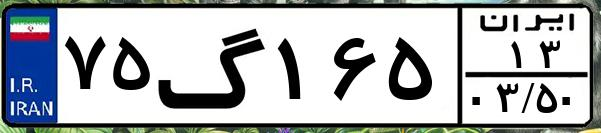0: (560, 70, 590, 125), (470, 70, 495, 125)
1: (270, 28, 330, 110), (508, 27, 537, 80)
3: (537, 27, 568, 80), (495, 70, 520, 125)
5: (385, 28, 445, 110), (110, 28, 156, 98), (535, 70, 560, 125)
6: (330, 28, 385, 110)
7: (57, 26, 110, 100)
گ: (156, 12, 270, 120)
